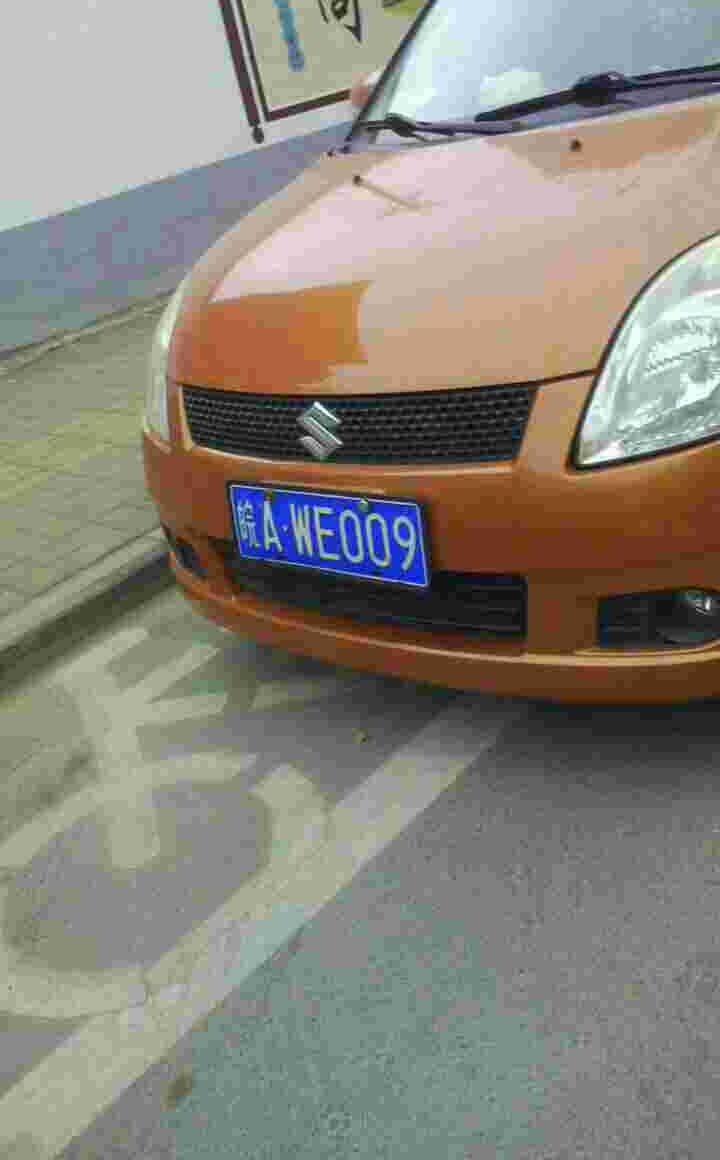plate: (221, 475, 432, 590)
